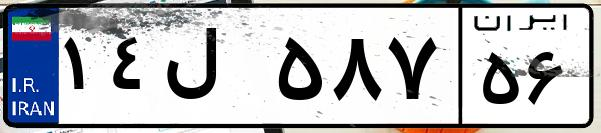1: (57, 26, 110, 100)
4: (110, 28, 158, 98)
5: (270, 28, 330, 110), (475, 38, 525, 113)
6: (525, 38, 570, 115)
7: (385, 28, 445, 110)
8: (330, 28, 385, 110)
ل: (158, 20, 270, 120)
